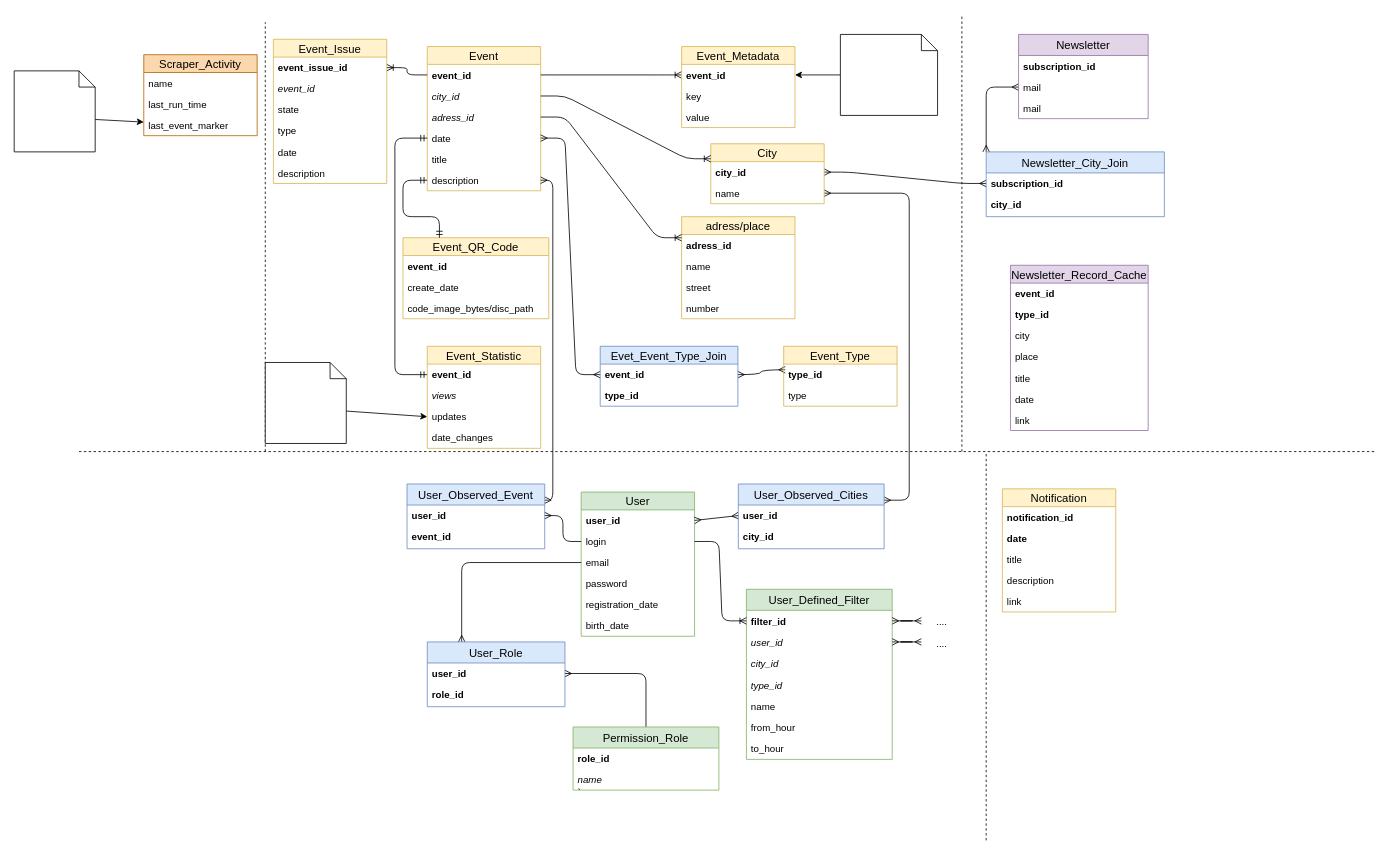
Some shapes in this 1391 by 855 pixel diagram are drawn without their labels. The centre of each missing label's shape, as x and y in pixels:
Can be normalized and split by statistic type: point (305, 402)
last event marker build like or similar date#title#city#: point (54, 111)
Metadata stored as kay value pair or json in text field: point (889, 74)
